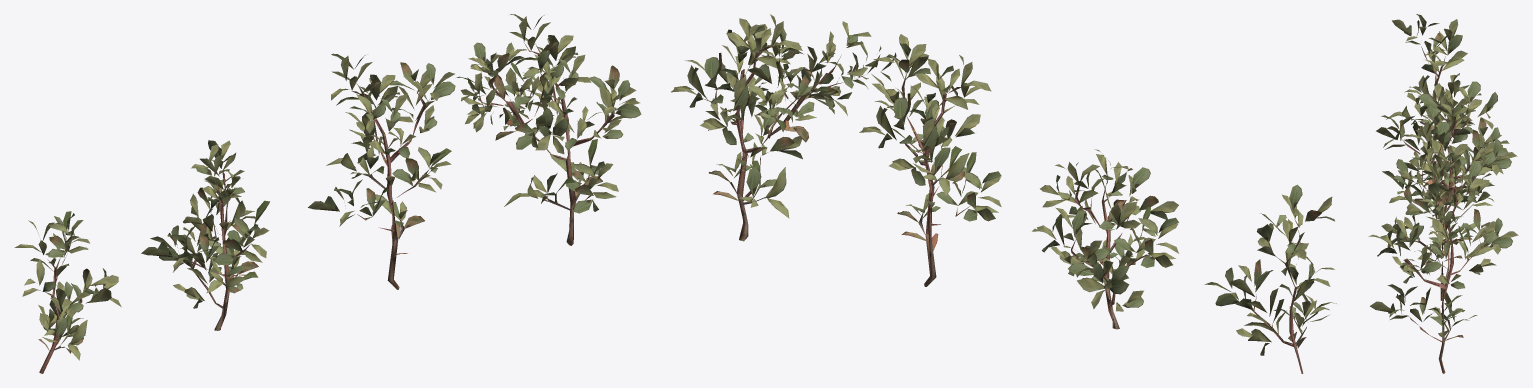
File: Shrub_04.glb
3 views of the same model, side by side, from view 1: azimuth 30°, elevation 25°; view 2: azimuth 150°, elevation 25°; view 3: azimuth 270°, elevation 25° (orthographic). The views are drawn at different scales.
Visible parts, largest first — view 1: shrub_04; view 2: shrub_04; view 3: shrub_04.
Part boxes in pixels (box(x1,y1,x2,y2)): shrub_04: box(14, 14, 641, 373); shrub_04: box(671, 14, 1336, 373); shrub_04: box(1368, 14, 1518, 373).
Size of the model in its own units: 0.5837 by 0.2192 by 0.1461.
1 material, 1 textured.
